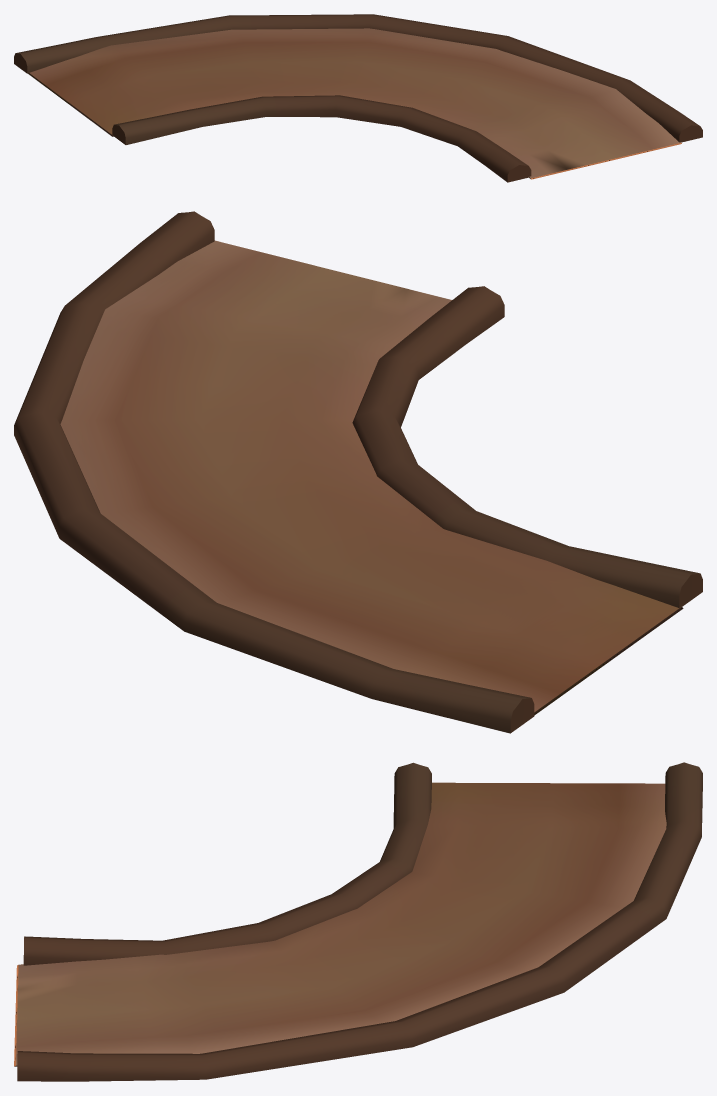
File: DirtBikeTrackWithBarriersCurved.glb
3 views of the same model, one above another, from view 1: azimuth 30°, elevation 25°; view 2: azimuth 150°, elevation 25°; view 3: azimuth 270°, elevation 25° (orthographic). The views are drawn at different scales.
Visible parts, largest first — view 1: DirtBikeTrackWithBarriersCurved; view 2: DirtBikeTrackWithBarriersCurved; view 3: DirtBikeTrackWithBarriersCurved.
Part boxes in pixels (<box>): DirtBikeTrackWithBarriersCurved: <box>14,14,702,182</box>; DirtBikeTrackWithBarriersCurved: <box>14,211,702,733</box>; DirtBikeTrackWithBarriersCurved: <box>14,762,702,1081</box>.
Size of the model in its own units: 11.83 by 0.3879 by 11.52.
Materials: 1 (1 with a texture image).
